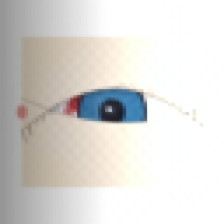hemorrhage_spot: (54, 63, 157, 145)
